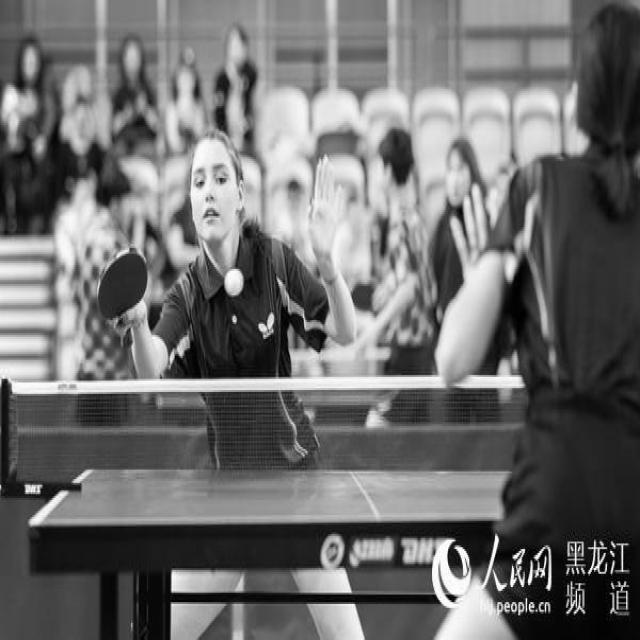ping-pong-ball: (220, 261, 246, 301)
